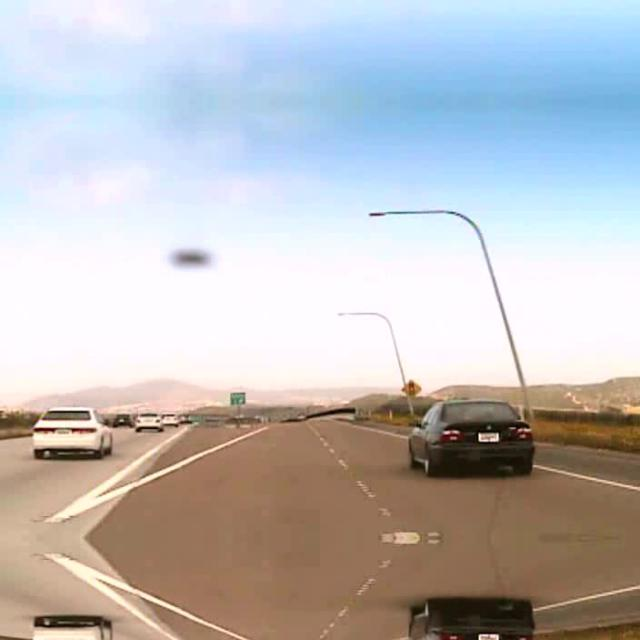signalAhead: (400, 377, 422, 397)
